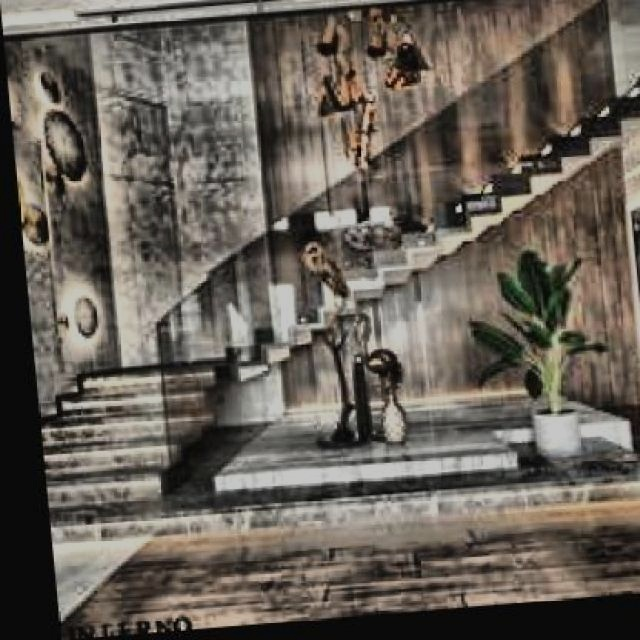stair: (28, 352, 254, 528)
